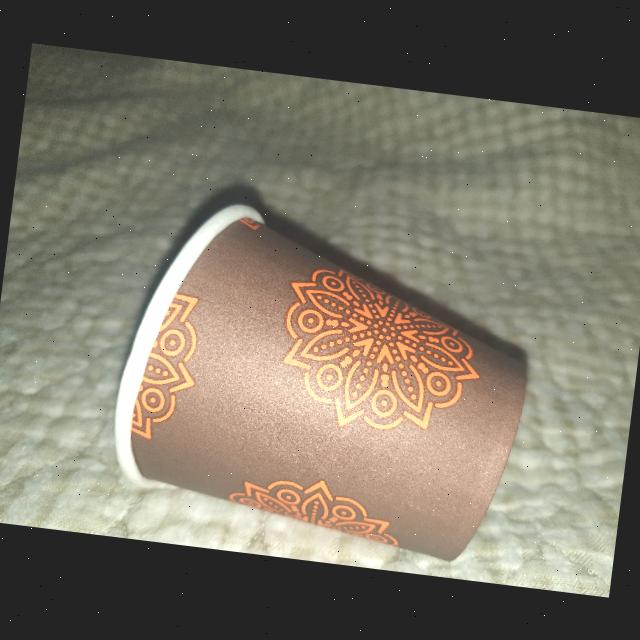trash: (96, 183, 554, 582)
